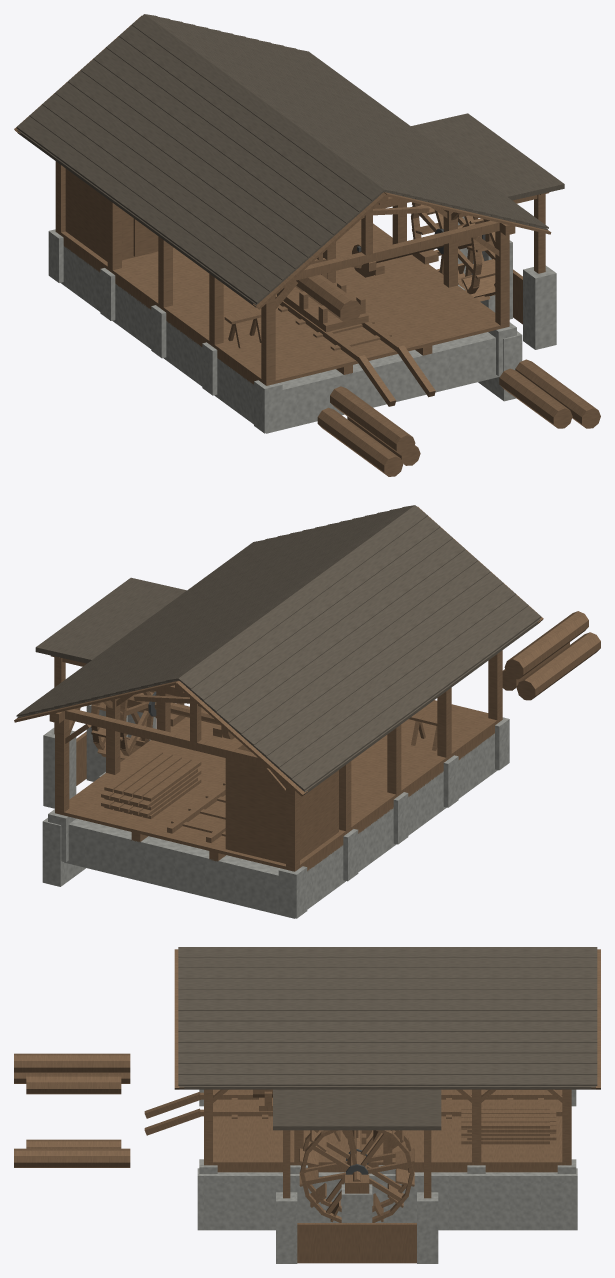
3 renders of one model, top to bottom at view 1: azimuth 30°, elevation 25°; view 2: azimuth 150°, elevation 25°; view 3: azimuth 270°, elevation 25°, orthographic. The views are drawn at different scales.
Visible parts, largest first — view 1: S01_roof, S01_floor, S01_foundation, S01_frame, S01_footing, S01_toolroom, Sawmill_wheel, S01_wheel_support_footing, S01_logpile0, S01_logpile2, S01_logpile3, S01_logpile4 (+7 smaller); view 2: S01_roof, S01_foundation, S01_frame, S01_floor, S01_toolroom, S01_footing, S01_boards, S01_logpile0, S01_logpile2, Sawmill_wheel, S01_wheel_support_footing, S01_rails (+2 smaller); view 3: S01_roof, S01_foundation, S01_floor, Sawmill_wheel, S01_frame, S01_race, S01_boards, S01_wheel_support_footing, S01_logpile2, S01_logpile4, S01_rails, S01_logpile1 (+7 smaller).
Part boxes in pixels (<box>): S01_roof: <box>16,14,564,307</box>; S01_floor: <box>55,219,509,385</box>; S01_foundation: <box>61,246,522,433</box>; S01_frame: <box>14,15,551,384</box>; S01_footing: <box>48,229,516,433</box>; S01_toolroom: <box>65,169,173,261</box>; Sawmill_wheel: <box>411,202,495,301</box>; S01_wheel_support_footing: <box>458,216,556,349</box>; S01_logpile0: <box>317,407,403,476</box>; S01_logpile2: <box>330,386,415,455</box>; S01_logpile3: <box>499,368,572,428</box>; S01_logpile4: <box>515,359,600,428</box>; S01_roof: <box>16,505,541,794</box>; S01_foundation: <box>42,733,497,918</box>; S01_frame: <box>14,506,543,871</box>; S01_floor: <box>55,700,502,871</box>; S01_toolroom: <box>225,743,338,863</box>; S01_footing: <box>48,717,509,918</box>; S01_boards: <box>101,750,201,818</box>; S01_logpile0: <box>516,632,600,700</box>; S01_logpile2: <box>504,611,588,679</box>; Sawmill_wheel: <box>91,690,184,761</box>; S01_wheel_support_footing: <box>43,711,155,808</box>; S01_rails: <box>167,781,225,842</box>; S01_roof: <box>178,947,597,1130</box>; S01_foundation: <box>197,1168,577,1230</box>; S01_floor: <box>204,1089,571,1165</box>; Sawmill_wheel: <box>299,1130,414,1222</box>; S01_frame: <box>174,949,600,1172</box>; S01_race: <box>297,1223,416,1263</box>; S01_boards: <box>461,1105,556,1144</box>; S01_wheel_support_footing: <box>276,1192,438,1263</box>; S01_logpile2: <box>14,1053,130,1072</box>; S01_logpile4: <box>14,1148,130,1167</box>; S01_rails: <box>200,1092,562,1118</box>; S01_logpile1: <box>26,1075,121,1094</box>.
Size of the model in its own units: 11.92 by 7.91 by 19.16.
5 materials, 4 textured.
